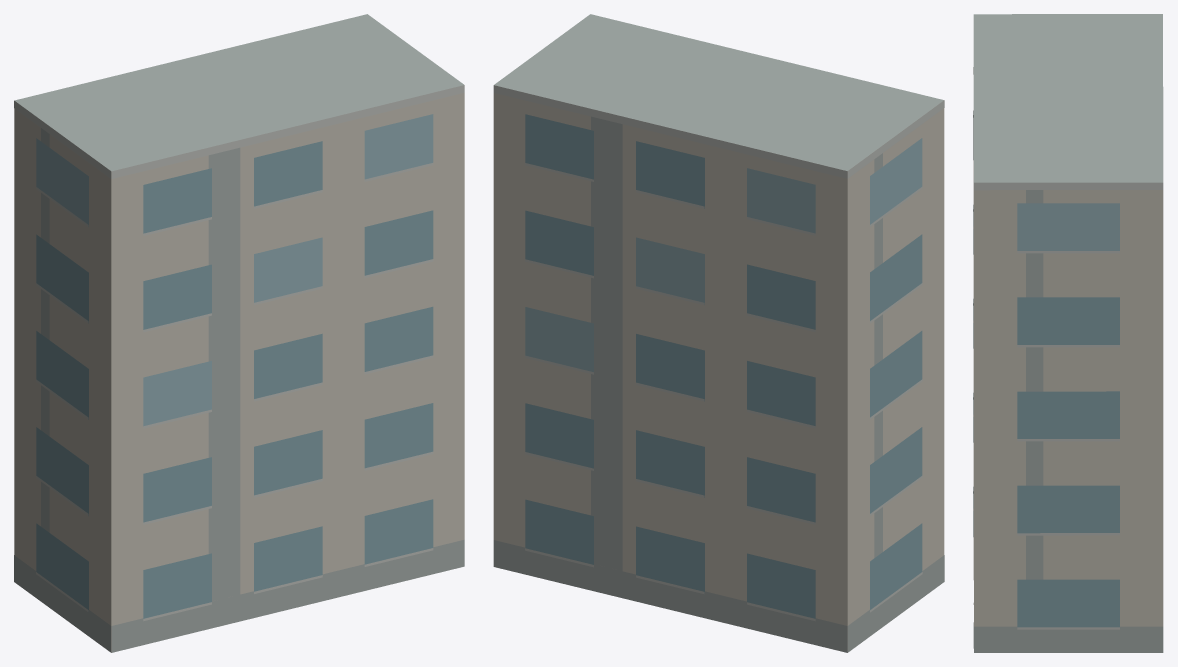
The model's file is survey-upis-32728767.glb.
The picture shows the model from 3 angles, left to right: view 1: azimuth 30°, elevation 25°; view 2: azimuth 150°, elevation 25°; view 3: azimuth 270°, elevation 25°; orthographic projection. The views are drawn at different scales.
Visible parts, largest first — view 1: survey-upis-32728767.tmp; view 2: survey-upis-32728767.tmp; view 3: survey-upis-32728767.tmp.
Part boxes in pixels (x1,y1,x2,y2): survey-upis-32728767.tmp: (14,14,464,652); survey-upis-32728767.tmp: (493,14,944,652); survey-upis-32728767.tmp: (973,14,1163,652).
Bounding box in the file's own units: 11.71 × 15.2 × 5.59.
